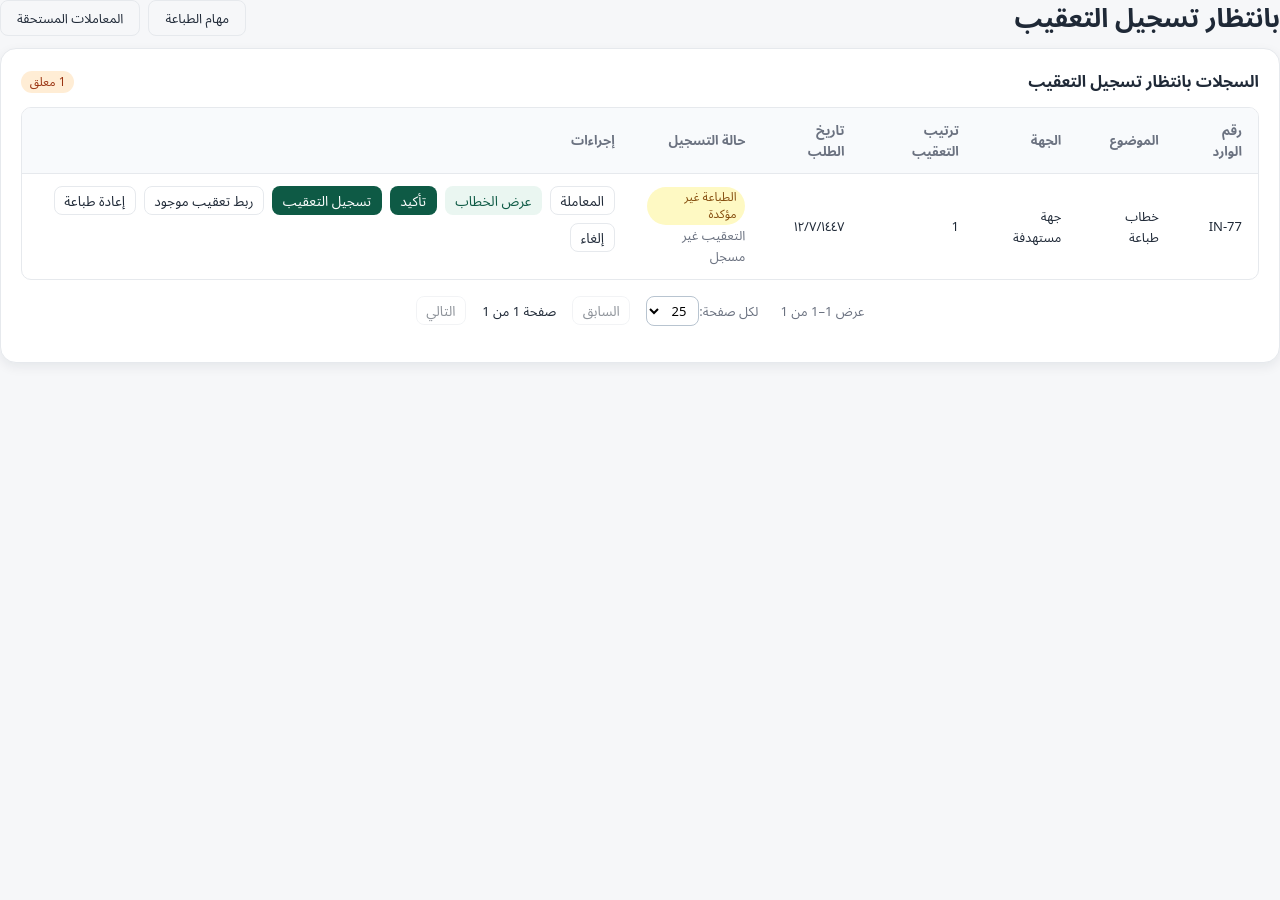
Test: FollowUpPrintPendingPage › shows the link error inside the modal without closing it
The image size is (1280, 900).
Check: the text "IN-77" is shown, box [1175,174,1258,279]
Click the button "ربط تعقيب موجود" at (204, 201), box [144,186,264,215]
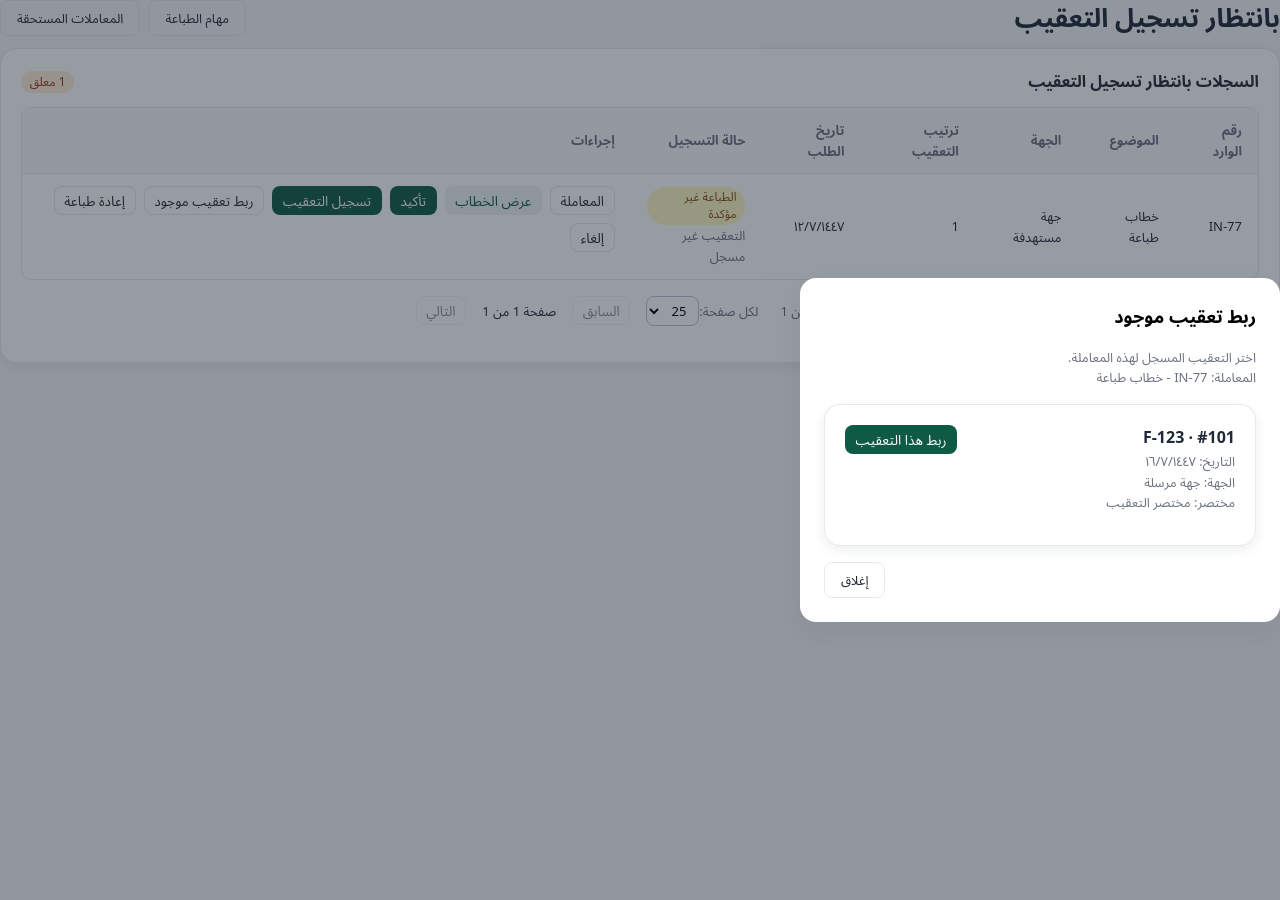
Click the button "ربط هذا التعقيب" at (901, 440), box [845,425,957,454]
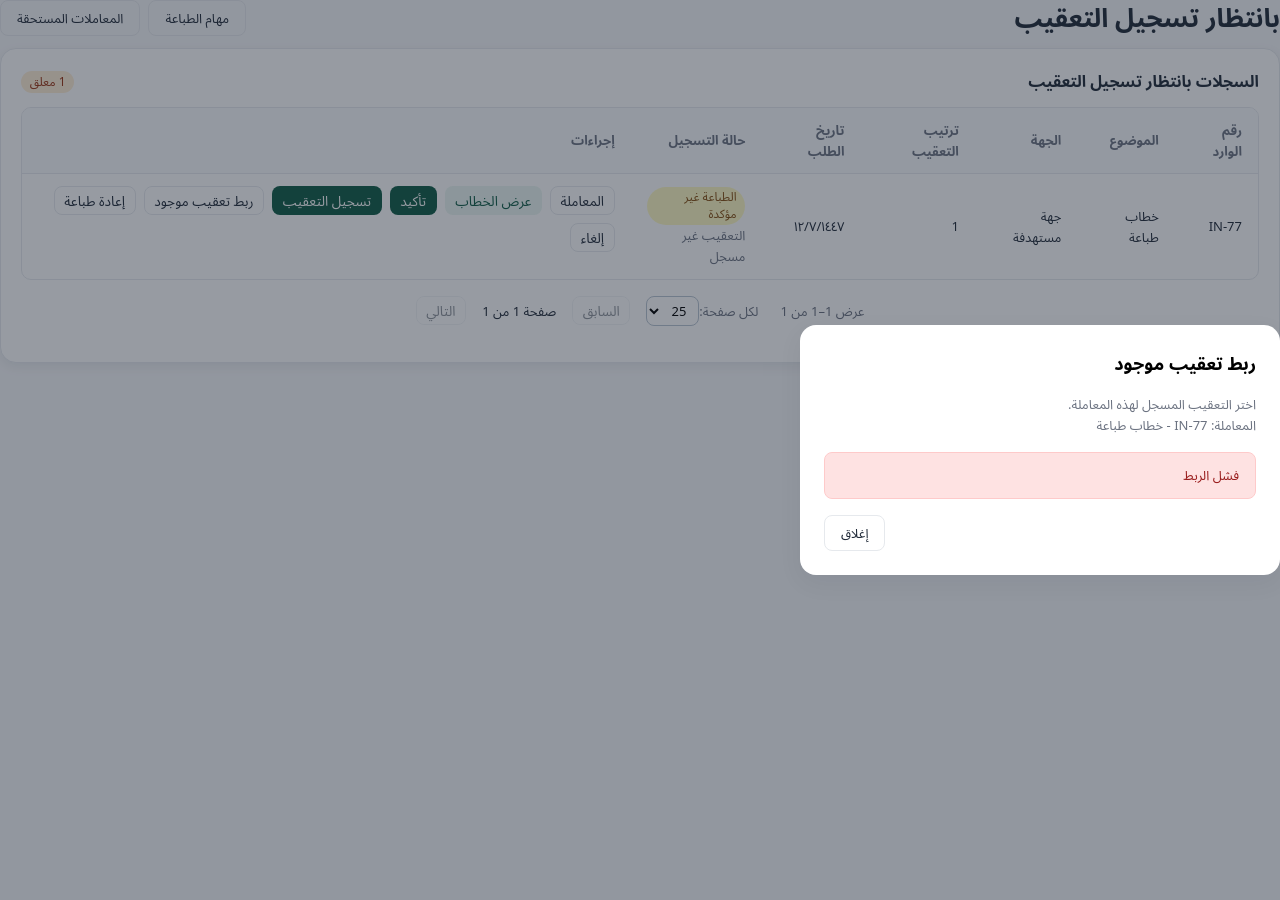
Check: the dialog "ربط تعقيب موجود" is shown, box [800,325,1279,575]
Check: the text "فشل الربط" is shown, box [824,452,1256,498]
